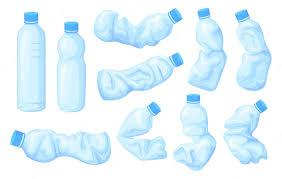plastic: (7, 122, 114, 171), (90, 5, 188, 51), (222, 97, 282, 169), (232, 6, 277, 94), (116, 99, 173, 168), (11, 10, 48, 114), (54, 18, 90, 117), (175, 93, 219, 173), (191, 6, 228, 94)
